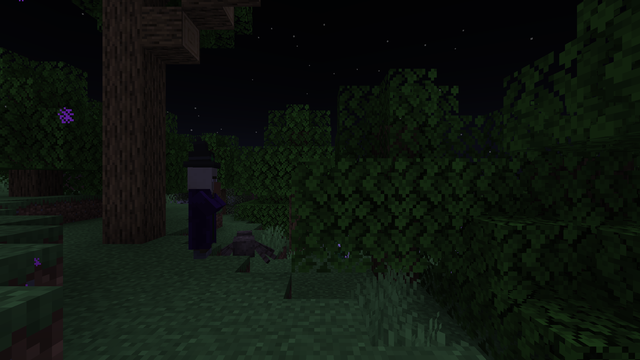araignees: (226, 228, 269, 266)
sorcieres: (181, 163, 221, 259)
